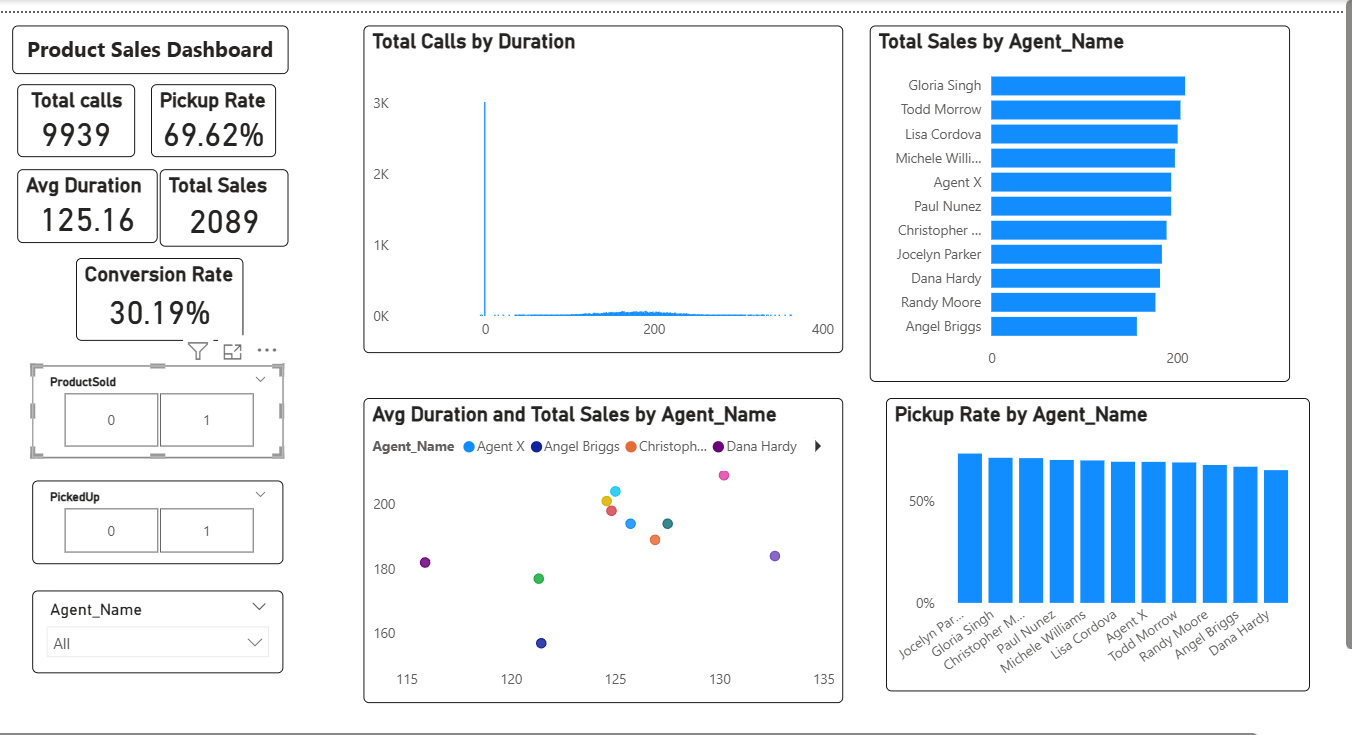

This screenshot's page, from the dashboard's own definition file:
{"tool":"powerbi","page":{"name":"Page 1","canvas":[1280,720],"ordinal":0},"visuals":[{"type":"card","title":"Total calls","fields":{"Values":["Product_Sales.Total Calls"]},"box":[18.9,63.3,104.4,64.4],"z":0},{"type":"textbox","box":[14.4,11.1,245.6,43.3],"z":1},{"type":"card","title":"Conversion Rate","fields":{"Values":["Product_Sales.Conversion Rate %"]},"box":[71.1,217.8,148.9,73.3],"z":2},{"type":"card","title":"Pickup Rate","fields":{"Values":["Product_Sales.Pickup Rate %"]},"box":[137.8,63.3,111.1,64.4],"z":3},{"type":"card","title":"Avg Duration","fields":{"Values":["Product_Sales.Avg Duration"]},"box":[18.9,138.9,124.4,65.6],"z":4},{"type":"card","title":"Total Sales","fields":{"Values":["Product_Sales.Total Sales"]},"box":[145.6,138.9,114.4,68.9],"z":5},{"type":"barChart","fields":{"Y":["Product_Sales.Total Sales"],"Category":["Product_Sales.Agent_Name"]},"box":[776.7,11.1,373.3,316.7],"z":6},{"type":"clusteredColumnChart","title":"Pickup Rate by Agent_Name","fields":{"Y":["Product_Sales.Pickup Rate %"],"Category":["Product_Sales.Agent_Name"]},"box":[791.1,342.2,376.7,261.1],"z":7},{"type":"columnChart","fields":{"Category":["Product_Sales.Duration"],"Y":["Product_Sales.Total Calls"]},"box":[326.7,11.1,426.7,291.1],"z":8},{"type":"scatterChart","fields":{"X":["Product_Sales.Avg Duration"],"Y":["Product_Sales.Total Sales"],"Series":["Product_Sales.Agent_Name"]},"box":[326.7,342.2,426.7,271.1],"z":9},{"type":"slicer","fields":{"Values":["Product_Sales.Agent_Name"]},"box":[32.2,513.3,223.3,73.3],"z":10},{"type":"slicer","fields":{"Values":["Product_Sales.PickedUp"]},"box":[32.2,415.6,223.3,74.4],"z":11},{"type":"slicer","fields":{"Values":["Product_Sales.ProductSold"]},"box":[32.2,313.3,223.3,82.2],"z":12}]}

Visuals, with their boxes on the page's 1280x720 design canvas (x1, y1, x2, y2). These are canvas units, not pixel positions in the 1352x735 screenshot, which may show the page scaled, cropped or inside an application window:
"Total calls" card: l=19, t=63, r=123, b=128
textbox: l=14, t=11, r=260, b=54
"Conversion Rate" card: l=71, t=218, r=220, b=291
"Pickup Rate" card: l=138, t=63, r=249, b=128
"Avg Duration" card: l=19, t=139, r=143, b=204
"Total Sales" card: l=146, t=139, r=260, b=208
barChart - Product_Sales.Total Sales x Product_Sales.Agent_Name: l=777, t=11, r=1150, b=328
"Pickup Rate by Agent_Name" clusteredColumnChart: l=791, t=342, r=1168, b=603
columnChart - Product_Sales.Duration x Product_Sales.Total Calls: l=327, t=11, r=753, b=302
scatterChart - Product_Sales.Avg Duration x Product_Sales.Total Sales: l=327, t=342, r=753, b=613
slicer - Product_Sales.Agent_Name: l=32, t=513, r=256, b=587
slicer - Product_Sales.PickedUp: l=32, t=416, r=256, b=490
slicer - Product_Sales.ProductSold: l=32, t=313, r=256, b=396
